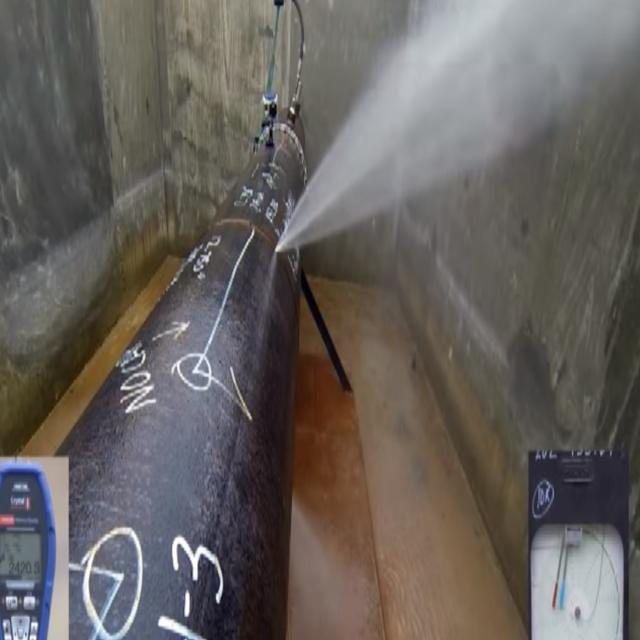leak: (279, 0, 640, 250)
